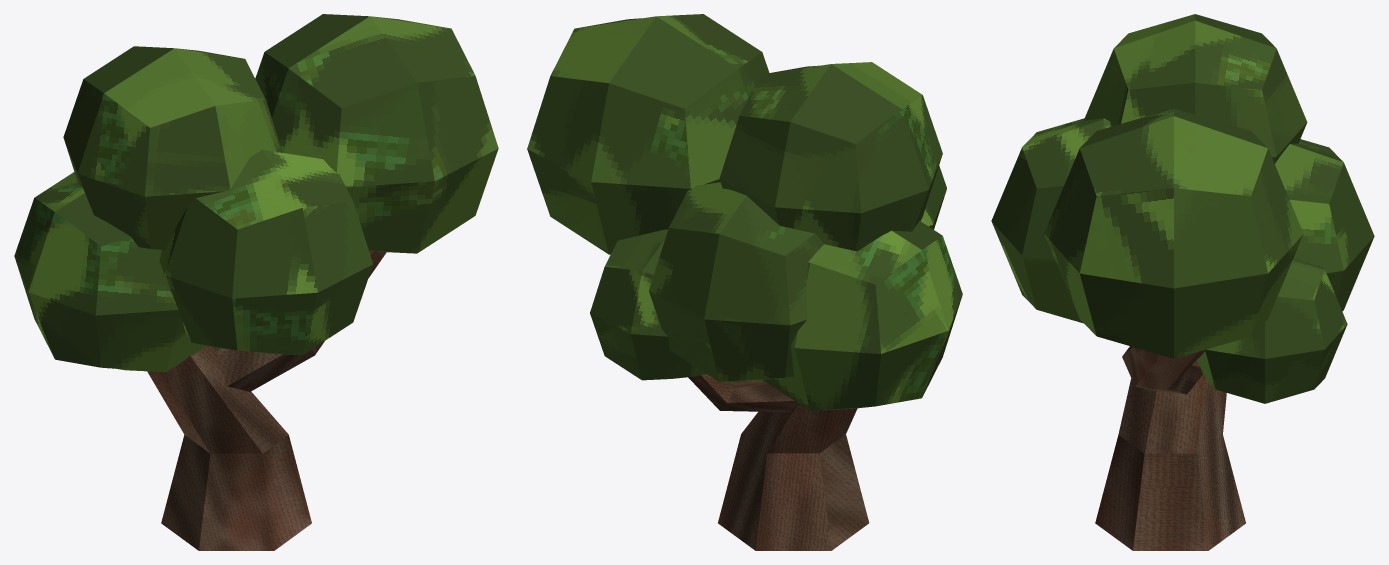
File: Tree_2.glb
3 views of the same model, side by side, from view 1: azimuth 30°, elevation 25°; view 2: azimuth 150°, elevation 25°; view 3: azimuth 270°, elevation 25° (orthographic).
Visible parts, largest first — view 1: Leaf, Leaf.001, Leaf.003, Leaf.005, Trunk 1, Trunk 2; view 2: Leaf, Leaf.003, Leaf.005, Leaf.002, Trunk 1, Leaf.004, Branch.003, Leaf.001; view 3: Leaf, Trunk 1, Leaf.003, Leaf.004, Leaf.001, Leaf.002, Trunk 2.
Part boxes in pixels (bbox=[...]): Leaf: bbox=[255, 14, 498, 253]; Leaf.001: bbox=[159, 150, 373, 355]; Leaf.003: bbox=[63, 46, 282, 249]; Leaf.005: bbox=[14, 172, 207, 372]; Trunk 1: bbox=[147, 345, 311, 550]; Trunk 2: bbox=[212, 250, 386, 391]; Leaf: bbox=[527, 14, 769, 254]; Leaf.003: bbox=[719, 62, 942, 251]; Leaf.005: bbox=[762, 221, 962, 410]; Leaf.002: bbox=[649, 182, 823, 382]; Trunk 1: bbox=[718, 403, 869, 550]; Leaf.004: bbox=[590, 229, 706, 380]; Branch.003: bbox=[688, 374, 797, 412]; Leaf.001: bbox=[921, 165, 946, 229]; Leaf: bbox=[1044, 108, 1303, 358]; Trunk 1: bbox=[1095, 374, 1245, 550]; Leaf.003: bbox=[1083, 14, 1307, 163]; Leaf.004: bbox=[1197, 258, 1347, 403]; Leaf.001: bbox=[991, 118, 1111, 323]; Leaf.002: bbox=[1275, 139, 1374, 311]; Trunk 2: bbox=[1122, 346, 1206, 394].
Size of the model in its own units: 5.06 by 5.39 by 3.91.
Materials: 2 (2 with a texture image).
